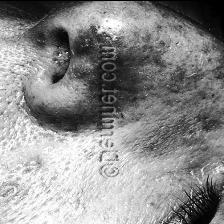Non-Cancerous Skin Condition: (119, 0, 224, 159), (0, 44, 61, 224)
